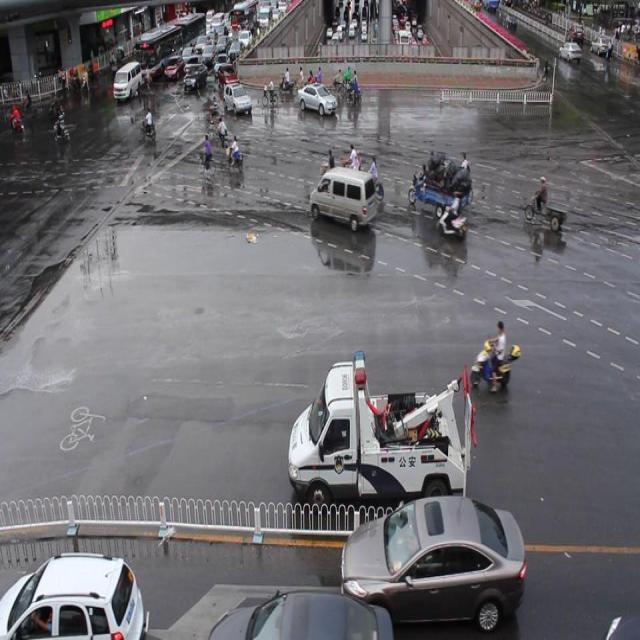bus: (287, 352, 473, 518)
car: (341, 495, 525, 633), (1, 550, 145, 640), (208, 588, 393, 640), (297, 82, 336, 116), (221, 82, 252, 116)
truck: (309, 165, 375, 230)
